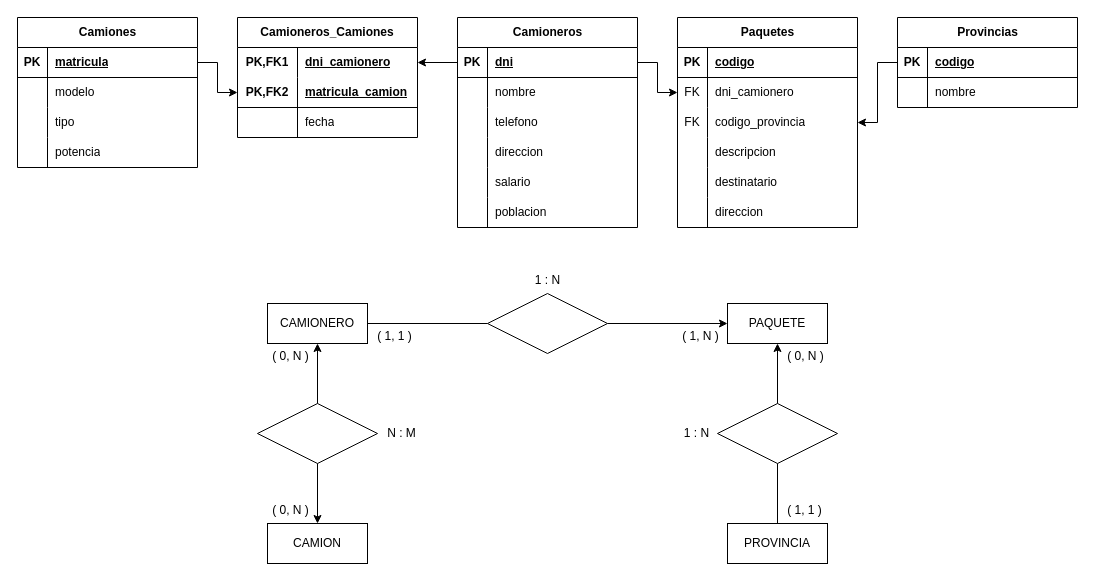
This 1095x581 diagram has some shape labels left out. Each missing label, with the centre of its shape:
conducir: point 317,433
destinar: point 777,433
distribuir: point 547,323
